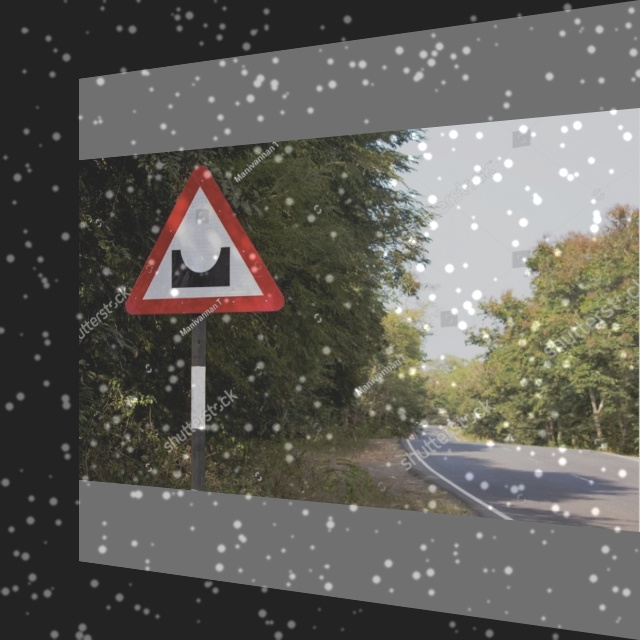Dangerous_Dip: (124, 160, 281, 312)
